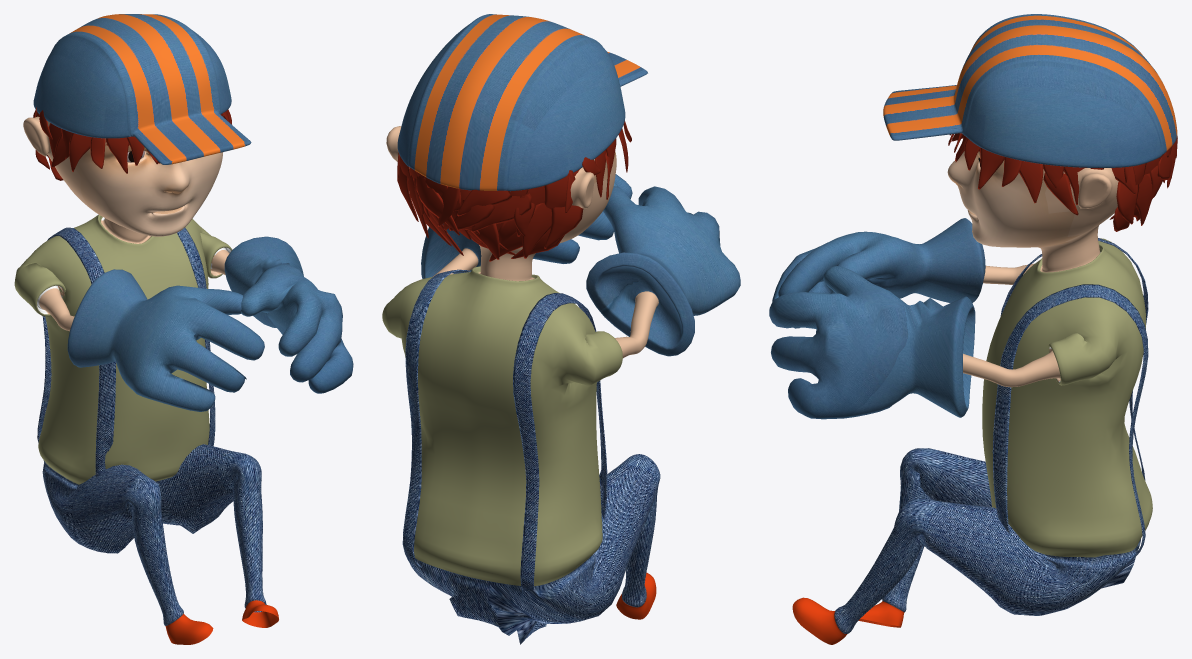
Rendered from janitorsitting 2.FBX.
The picture shows the model from 3 angles, left to right: view 1: azimuth 30°, elevation 25°; view 2: azimuth 150°, elevation 25°; view 3: azimuth 270°, elevation 25°; orthographic projection. The views are drawn at different scales.
Parts seen in each view (by area): view 1: Object006, hat, hair; view 2: Object006, hat, hair; view 3: Object006, hat, hair.
Boxes of the visible parts, x1,y1,x2,y2 form: Object006: [14, 115, 353, 644]; hat: [33, 14, 251, 164]; hair: [33, 107, 231, 180]; Object006: [382, 126, 740, 644]; hat: [397, 14, 647, 191]; hair: [397, 121, 631, 261]; Object006: [769, 138, 1152, 644]; hat: [883, 14, 1177, 167]; hair: [948, 133, 1177, 231].
Size of the model in its own units: 54.48 by 122 by 73.1.
Materials: 12 (5 with a texture image).
